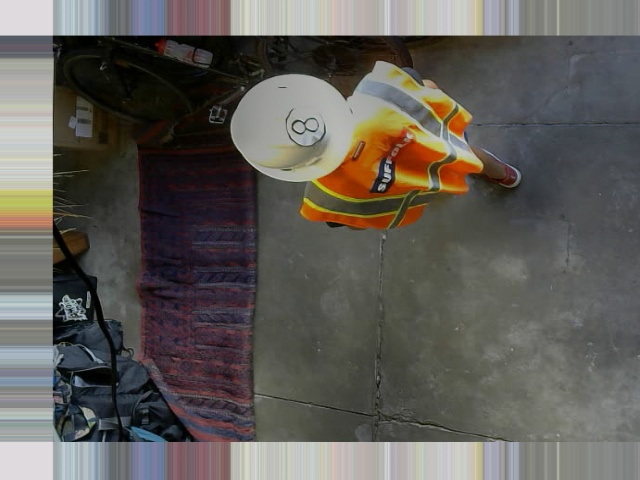eight: (284, 104, 326, 146)
